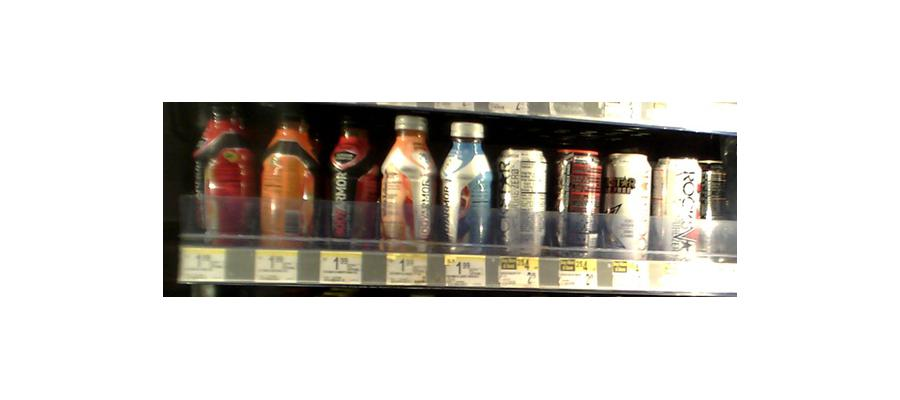bottle: (195, 100, 255, 244), (259, 108, 316, 246), (378, 108, 433, 250), (439, 118, 493, 253), (324, 115, 373, 246), (501, 142, 549, 258), (604, 148, 651, 260), (554, 147, 602, 256), (657, 155, 702, 260), (701, 160, 738, 258)
